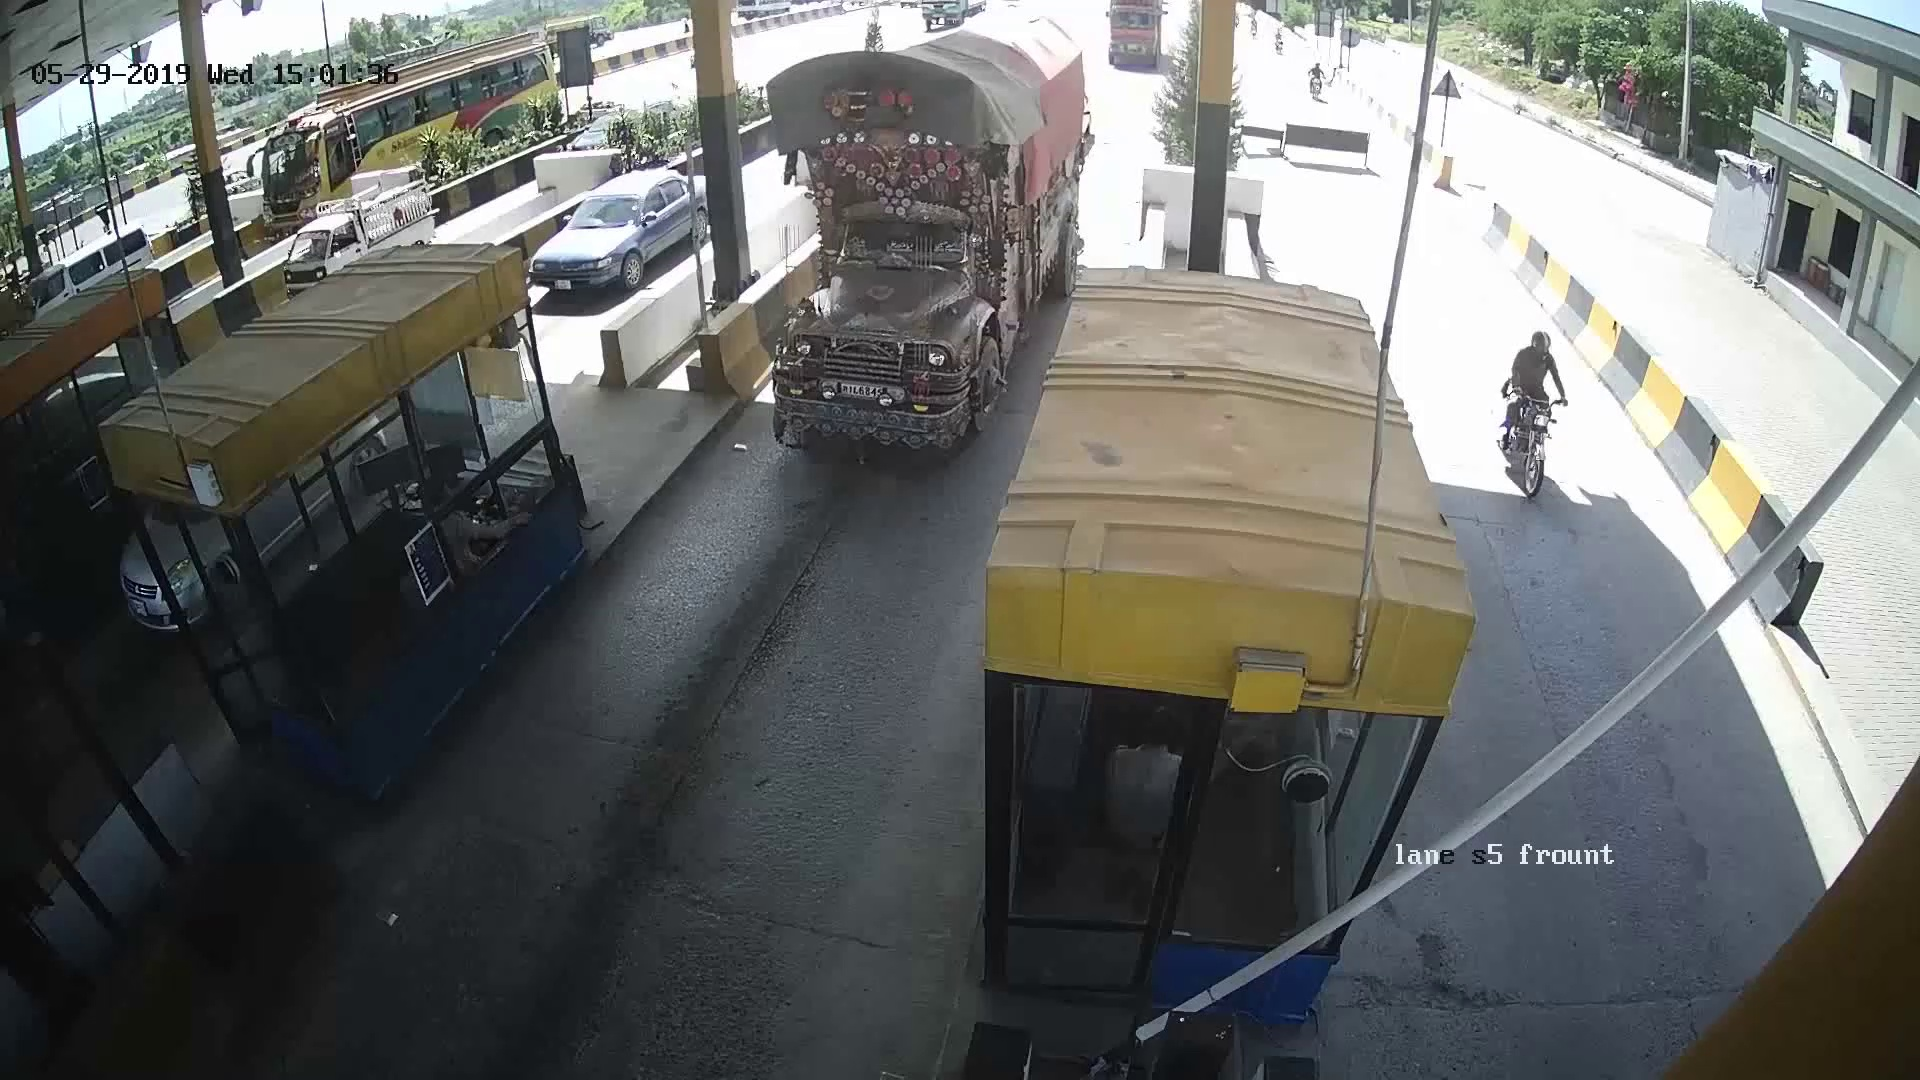truck: (771, 42, 1051, 451)
